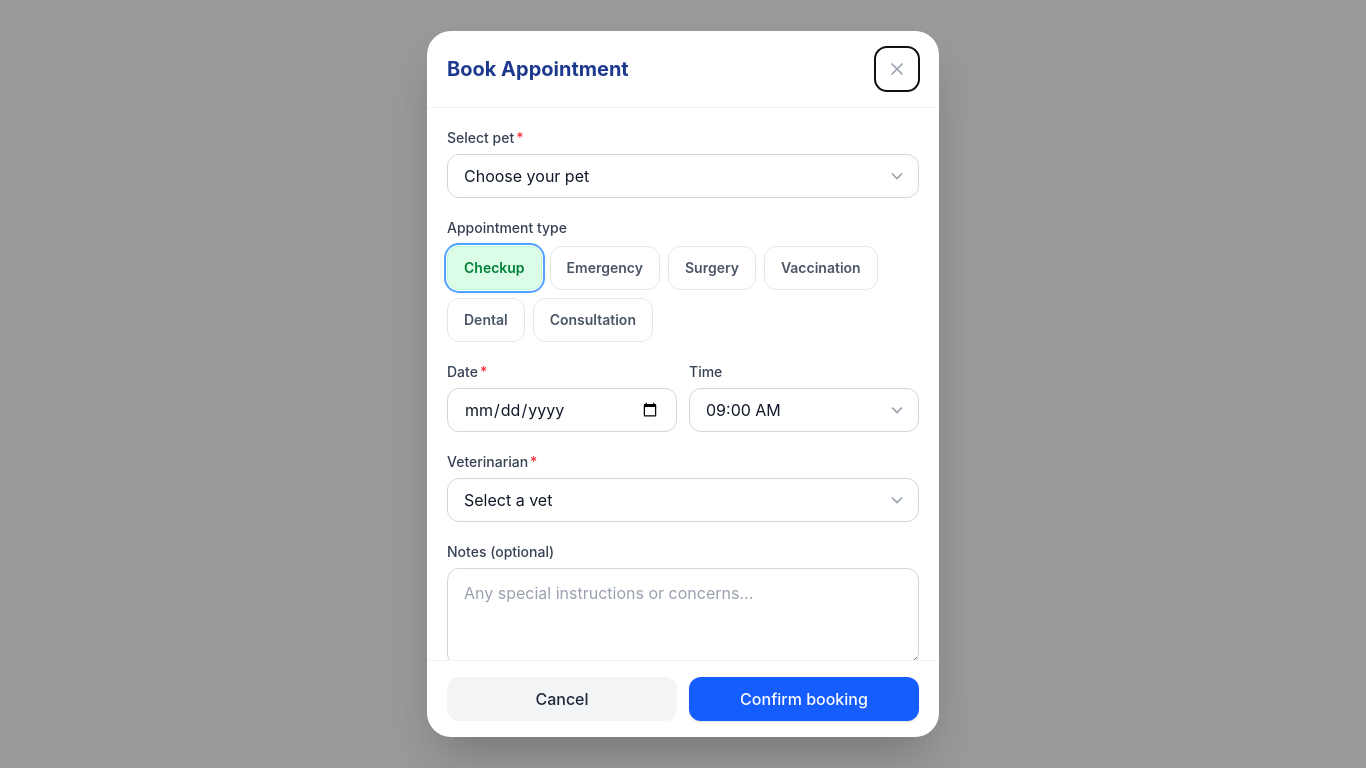
it: BookingModal Conflict Handling › displays alternate slots when a 409 conflict occurs
Select "Bella (Golden Retriever)" in the dropdown labelled "Select pet*": (683,176) [447,154,919,198]
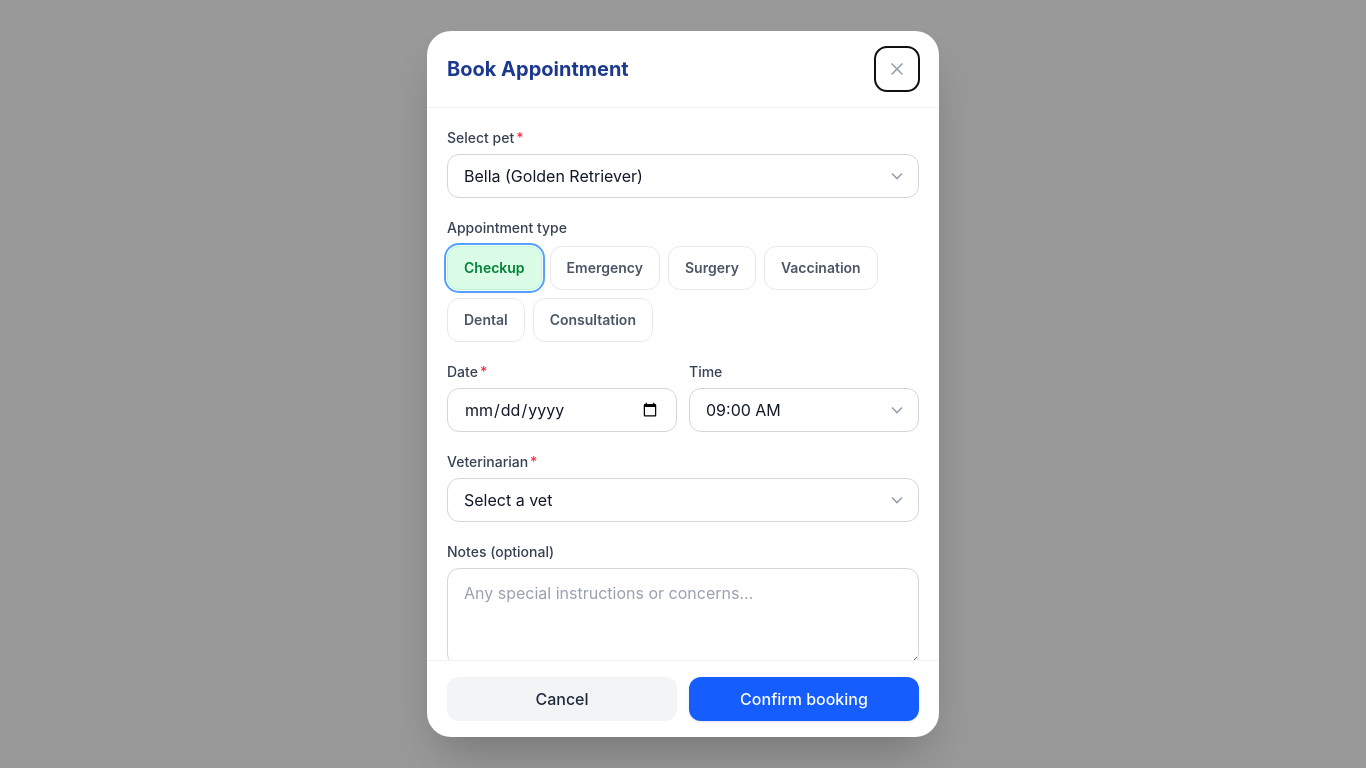
Select "Dr. Sarah Miller (General)" in the dropdown labelled "Veterinarian*": (683,500) [447,478,919,522]
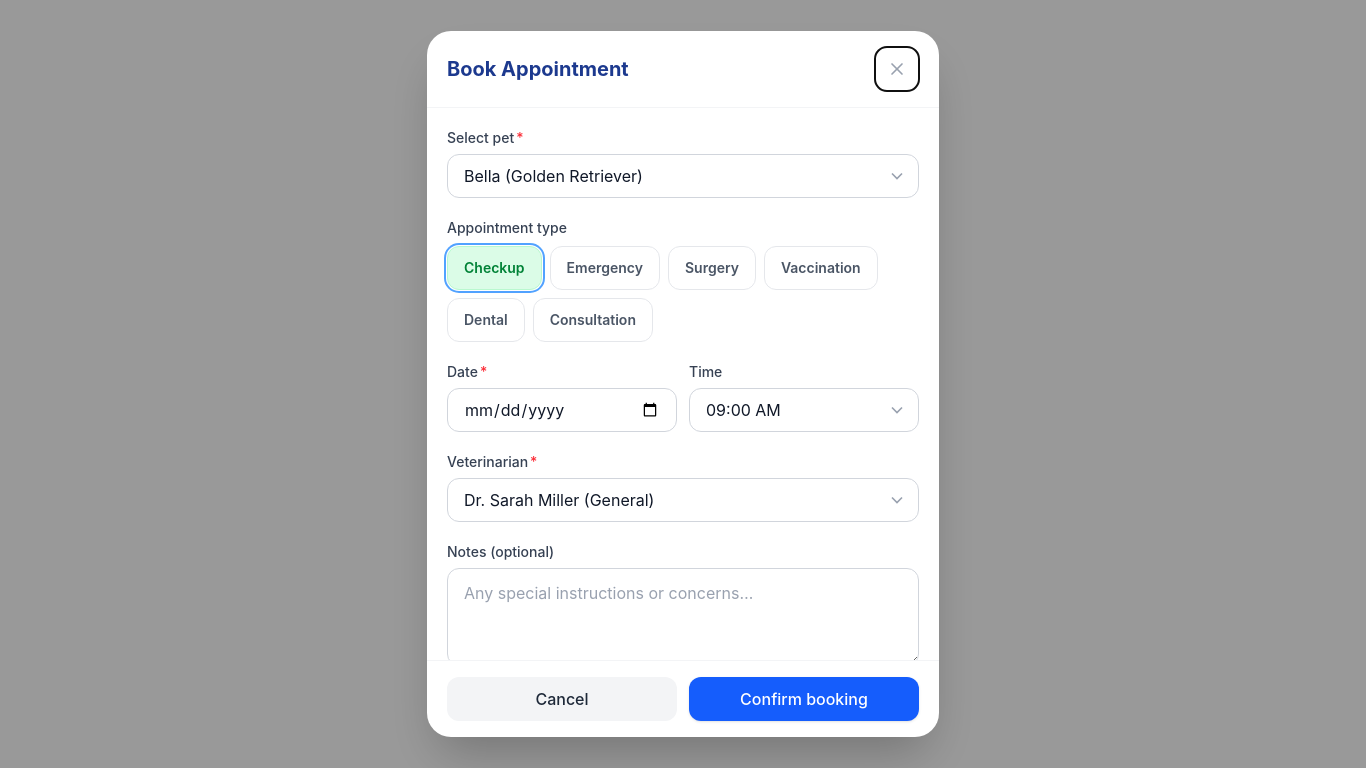
In the date field labelled "Date*": (562,410) [447,388,677,432], type "2020-10-10"
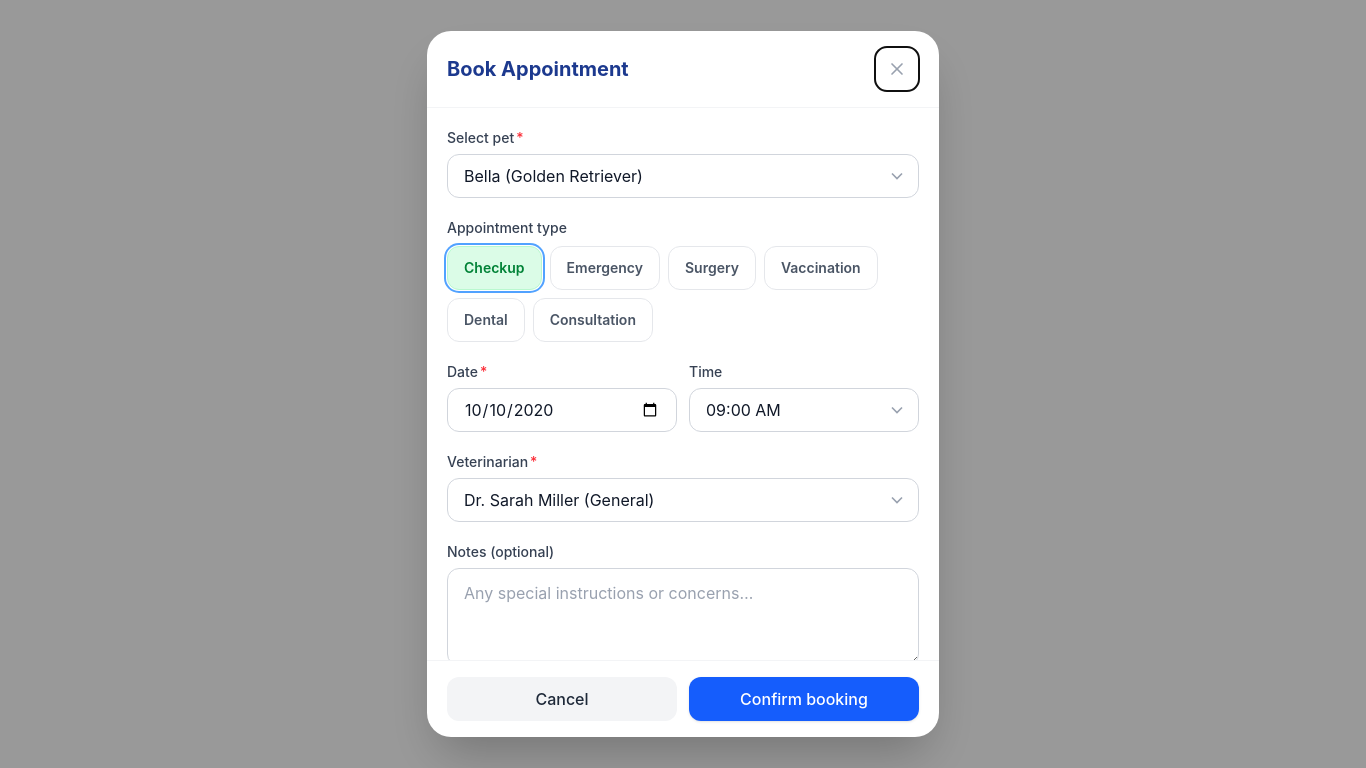
Click the button "Confirm booking": (804,699) [689,677,919,721]
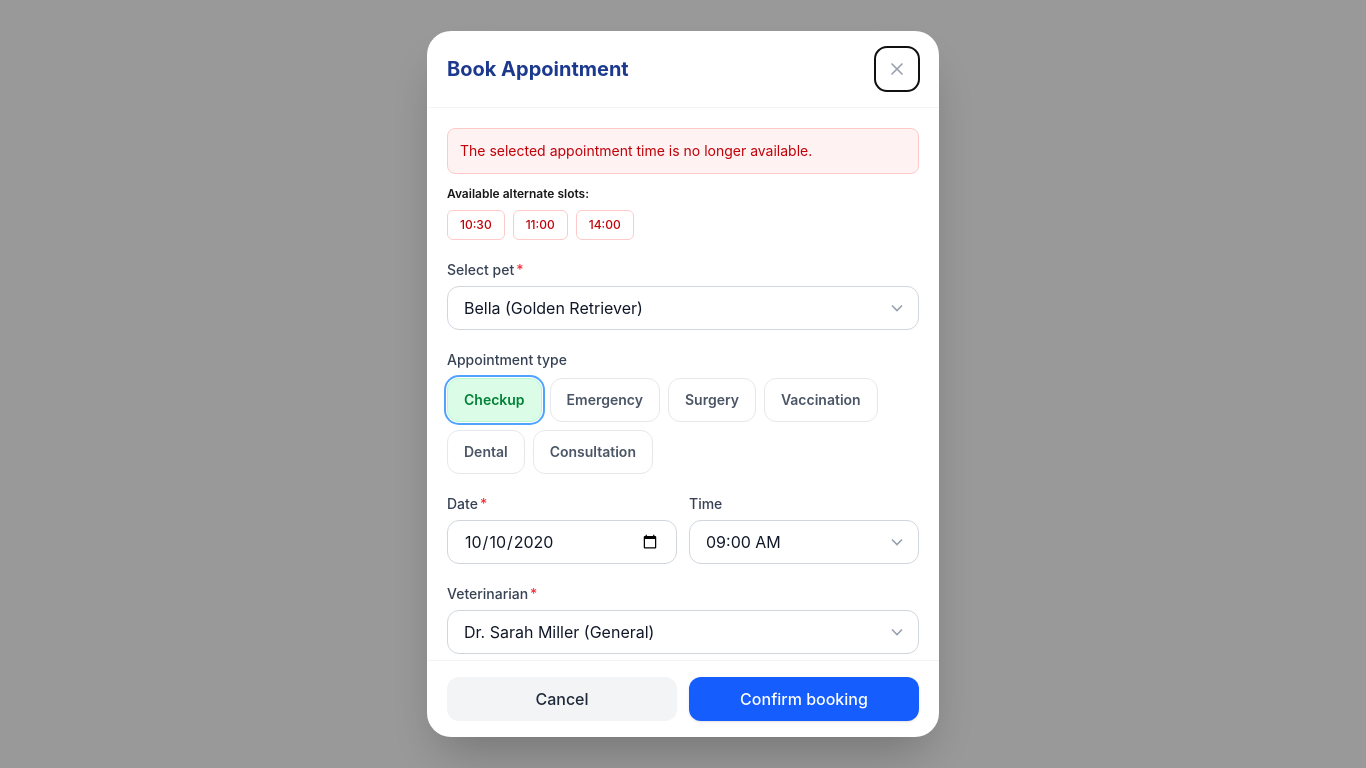
Check: the text "The selected appointment time is no longer available." is shown, box [460,142,812,159]
Check: the button "10:30" is shown, box [447,210,505,240]
Check: the button "11:00" is shown, box [513,210,568,240]
